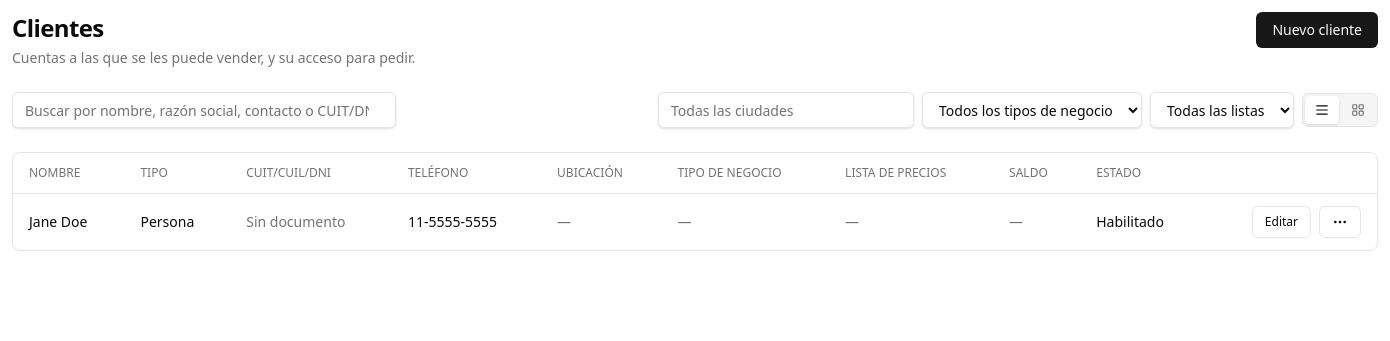
CustomersScreen › does not blame the load when a failed action left an error on screen
Expected: the text "Jane Doe" is shown, [13, 194, 124, 250]
Click the button named "Acciones de Jane Doe": (1340, 222) [1319, 206, 1361, 238]
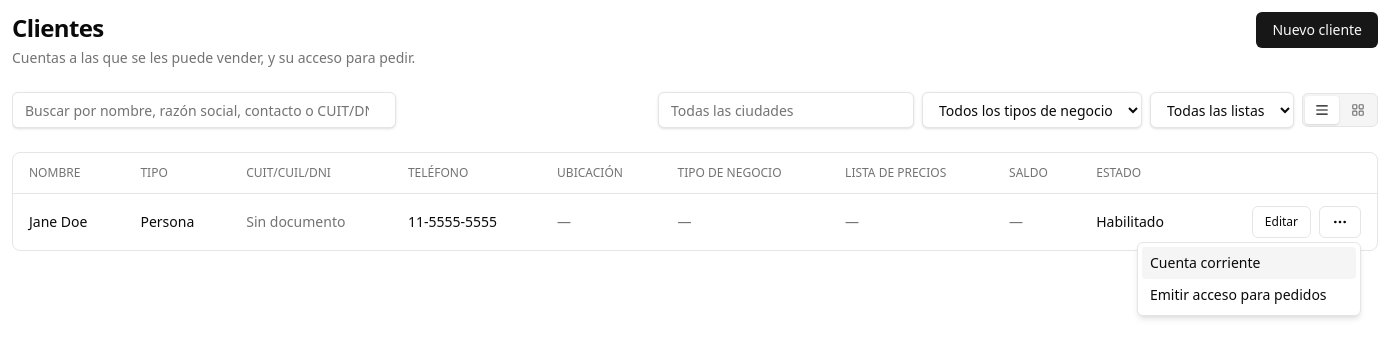
Click the menu item "Emitir acceso para pedidos": (1249, 295) [1142, 279, 1356, 311]
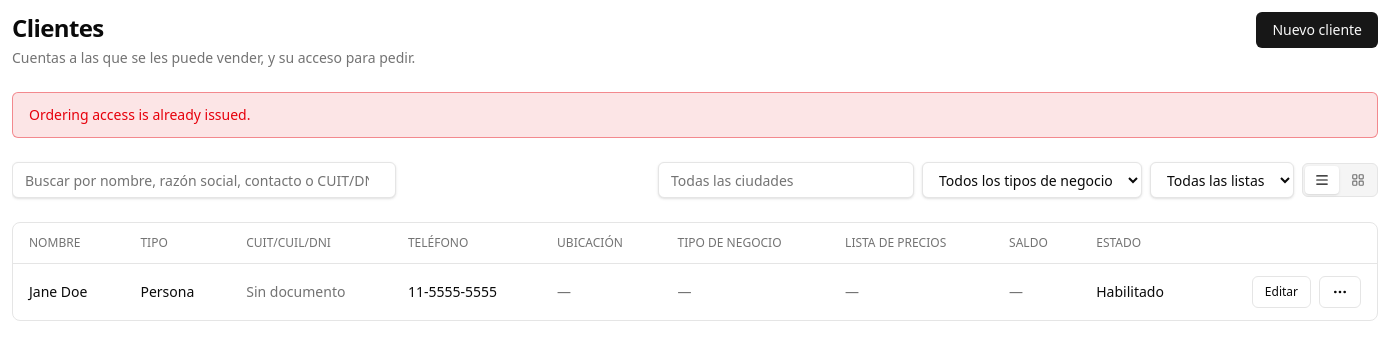
Now the message shows "already issued", box [29, 105, 250, 124]
In the search field named "buscar clientes": (204, 180) [12, 162, 396, 198], type "zzzz"
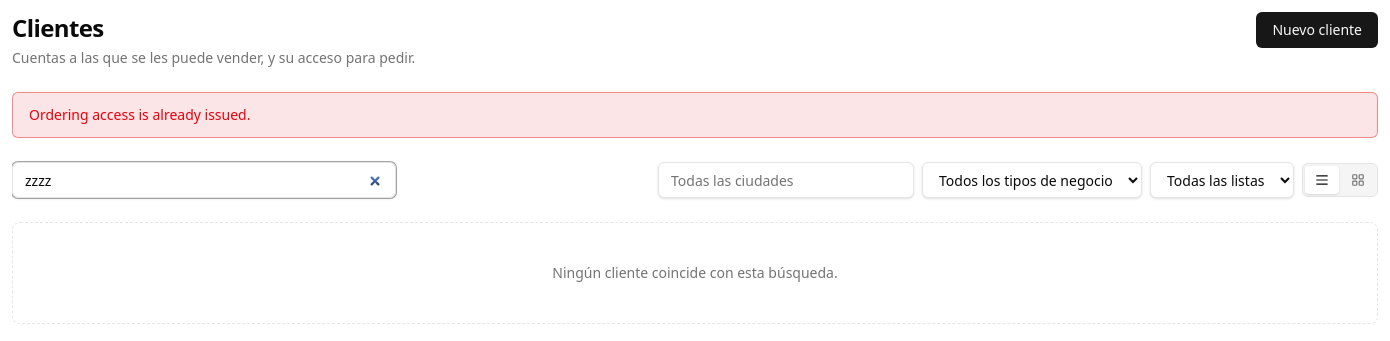
Now the text "Ningún cliente coincide con esta búsqueda." is shown, box [12, 222, 1378, 324]
